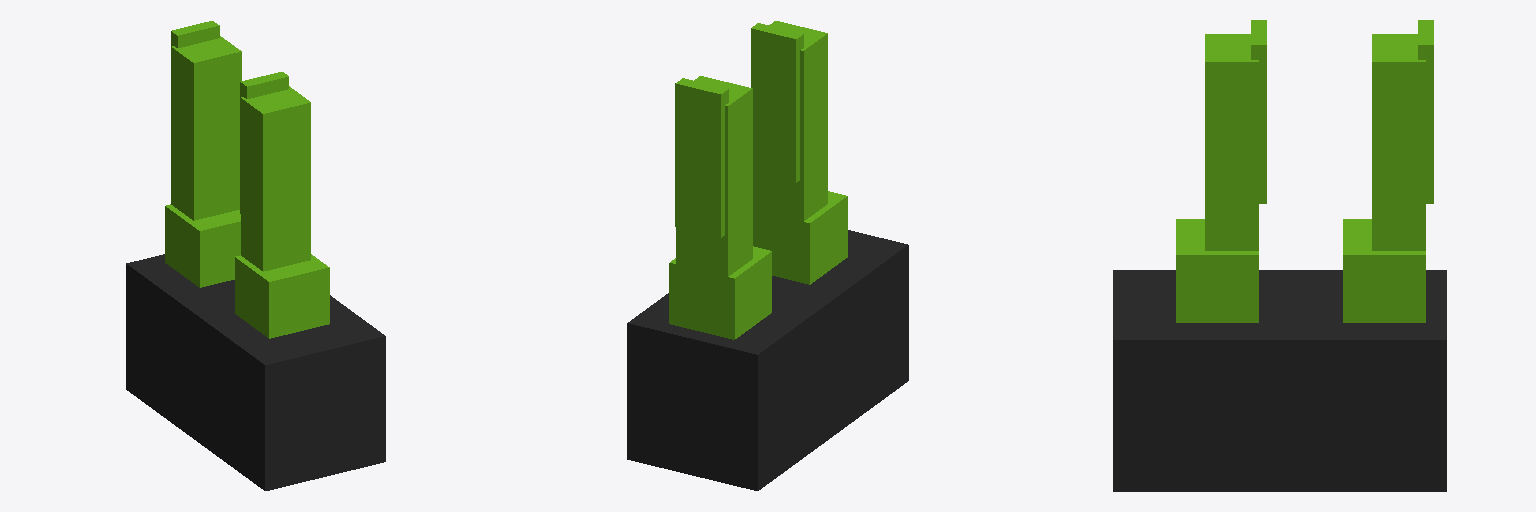
URDF robot description (enpire_franka_gripper):
<?xml version="1.0" encoding="utf-8"?>
<robot name="enpire_franka_gripper">
  <!-- Gripper Base -->
  <link name="gripper_base_link">
    <inertial>
      <origin xyz="0 0 0.02" rpy="0 0 0"/>
      <mass value="0.25"/>
      <inertia ixx="0.0002" ixy="0" ixz="0" iyy="0.0002" iyz="0" izz="0.0001"/>
    </inertial>
    <visual>
      <origin xyz="0 0 0.02" rpy="0 0 0"/>
      <geometry>
        <box size="0.04 0.08 0.04"/>
      </geometry>
      <material name="dark_gray">
        <color rgba="0.2 0.2 0.2 1.0"/>
      </material>
    </visual>
    <collision>
      <origin xyz="0 0 0.02" rpy="0 0 0"/>
      <geometry>
        <box size="0.04 0.08 0.04"/>
      </geometry>
    </collision>
  </link>

  <!-- Left Finger Joint -->
  <joint name="left_finger_joint" type="prismatic">
    <origin xyz="0 0.02 0.04" rpy="0 0 0"/>
    <parent link="gripper_base_link"/>
    <child link="left_finger_link"/>
    <axis xyz="0 1 0"/>
    <limit lower="0.0" upper="0.0400" effort="50" velocity="0.2"/>
    <dynamics damping="1.0" friction="0.1"/>
  </joint>

  <!-- Left Finger Link -->
  <link name="left_finger_link">
    <inertial>
      <origin xyz="0 0.01 0.035" rpy="0 0 0"/>
      <mass value="0.042"/>
      <inertia ixx="0.00003" ixy="0" ixz="0" iyy="0.00003" iyz="0" izz="0.00001"/>
    </inertial>
    <visual>
      <origin xyz="0 0 0" rpy="0 0 0"/>
      <geometry>
        <mesh filename="../stl/franka_panda/franka_enpire_finger_left.stl" scale="0.001 0.001 0.001"/>
      </geometry>
      <material name="nvidia_green">
        <color rgba="0.45 0.75 0.15 1.0"/>
      </material>
    </visual>
    <collision>
      <origin xyz="0 0 0" rpy="0 0 0"/>
      <geometry>
        <mesh filename="../stl/franka_panda/franka_enpire_finger_left.stl" scale="0.001 0.001 0.001"/>
      </geometry>
    </collision>
  </link>

  <!-- Right Finger Joint -->
  <joint name="right_finger_joint" type="prismatic">
    <origin xyz="0 -0.02 0.04" rpy="0 0 0"/>
    <parent link="gripper_base_link"/>
    <child link="right_finger_link"/>
    <axis xyz="0 -1 0"/>
    <limit lower="0.0" upper="0.0400" effort="50" velocity="0.2"/>
    <dynamics damping="1.0" friction="0.1"/>
    <mimic joint="left_finger_joint" multiplier="1.0" offset="0.0"/>
  </joint>

  <!-- Right Finger Link -->
  <link name="right_finger_link">
    <inertial>
      <origin xyz="0 -0.01 0.035" rpy="0 0 0"/>
      <mass value="0.042"/>
      <inertia ixx="0.00003" ixy="0" ixz="0" iyy="0.00003" iyz="0" izz="0.00001"/>
    </inertial>
    <visual>
      <origin xyz="0 0 0" rpy="0 0 0"/>
      <geometry>
        <mesh filename="../stl/franka_panda/franka_enpire_finger_right.stl" scale="0.001 0.001 0.001"/>
      </geometry>
      <material name="nvidia_green">
        <color rgba="0.45 0.75 0.15 1.0"/>
      </material>
    </visual>
    <collision>
      <origin xyz="0 0 0" rpy="0 0 0"/>
      <geometry>
        <mesh filename="../stl/franka_panda/franka_enpire_finger_right.stl" scale="0.001 0.001 0.001"/>
      </geometry>
    </collision>
  </link>

  <!-- Tool Center Point (TCP) Frame -->
  <joint name="tcp_joint" type="fixed">
    <origin xyz="0 0 0.075" rpy="0 0 0"/>
    <parent link="gripper_base_link"/>
    <child link="tcp_link"/>
  </joint>
  <link name="tcp_link"/>
</robot>

--- Facts derived from the render (not from the file) ---
Views: 3 orthographic renders of the robot side by side, from view 1: azimuth 30°, elevation 25°; view 2: azimuth 150°, elevation 25°; view 3: azimuth 270°, elevation 25°.
Robot: enpire_franka_gripper — 4 links, 3 joints (2 prismatic, 1 fixed); root link gripper_base_link; default pose: every joint at zero.
Visible links, largest first — view 1: gripper_base_link, right_finger_link, left_finger_link; view 2: gripper_base_link, left_finger_link, right_finger_link; view 3: gripper_base_link, left_finger_link, right_finger_link.
Boxes of the visible links, x1,y1,x2,y2 form: gripper_base_link: (126, 254, 385, 490); right_finger_link: (235, 72, 329, 338); left_finger_link: (165, 21, 241, 287); gripper_base_link: (627, 230, 908, 490); left_finger_link: (669, 76, 771, 339); right_finger_link: (751, 21, 847, 284); gripper_base_link: (1113, 270, 1446, 491); left_finger_link: (1343, 20, 1433, 322); right_finger_link: (1176, 20, 1266, 322).
Bounding box of the posed robot: 0.04 × 0.08 × 0.112 m (x, y, z).
2 mesh visuals loaded from 2 distinct referenced files (2 binary STL).
